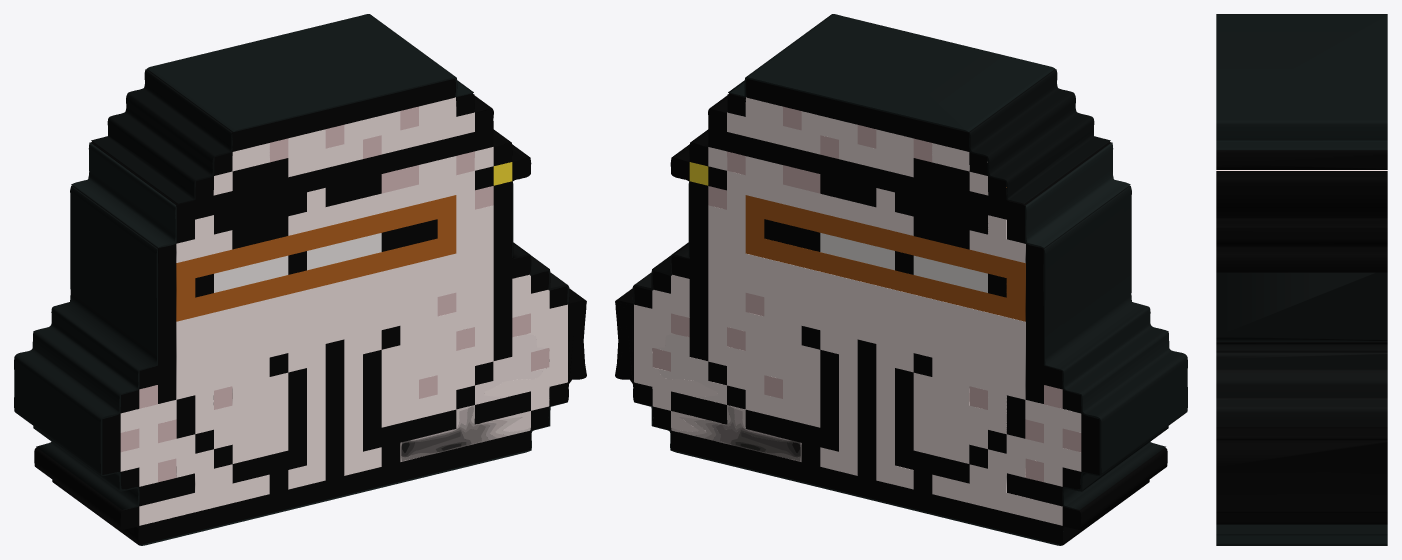
Rendered from Toadz_5370.glb.
The picture shows the model from 3 angles, left to right: view 1: azimuth 30°, elevation 25°; view 2: azimuth 150°, elevation 25°; view 3: azimuth 270°, elevation 25°; orthographic projection.
Parts seen in each view (by area): view 1: Curve; view 2: Curve; view 3: Curve.
Part boxes in pixels (x1,y1,x2,y2): Curve: (14,14,586,545); Curve: (615,14,1187,545); Curve: (1216,14,1387,545).
Size of the model in its own units: 3.25 by 2.51 by 1.
